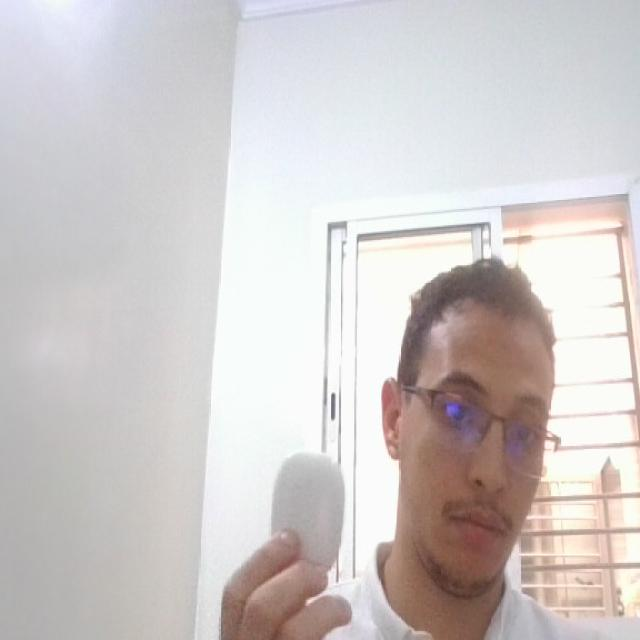airpods: (266, 445, 347, 589)
